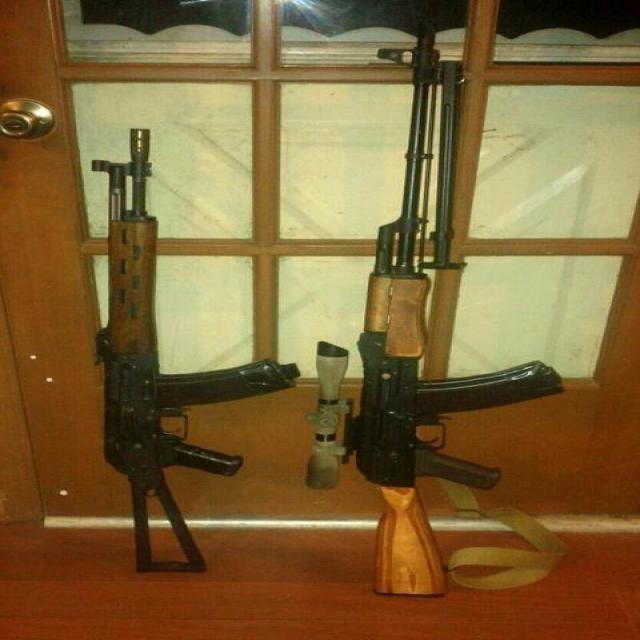firearm: (308, 24, 568, 594), (90, 128, 302, 575)
